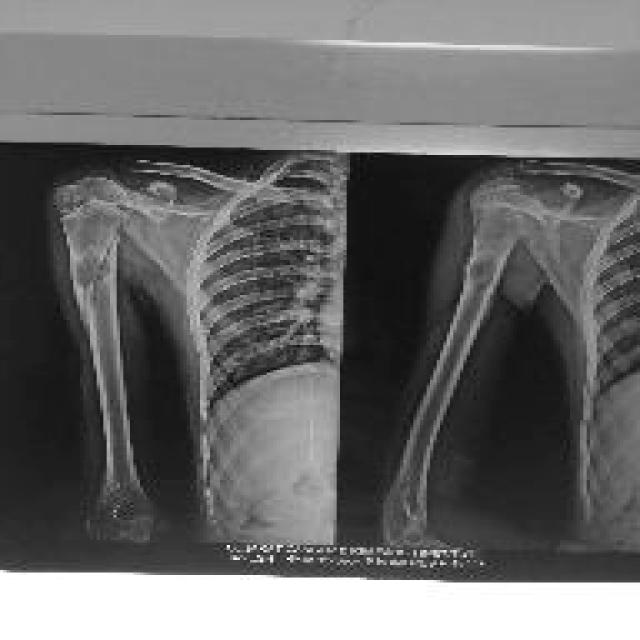bone-cancer: (65, 247, 112, 286), (466, 253, 500, 289)
